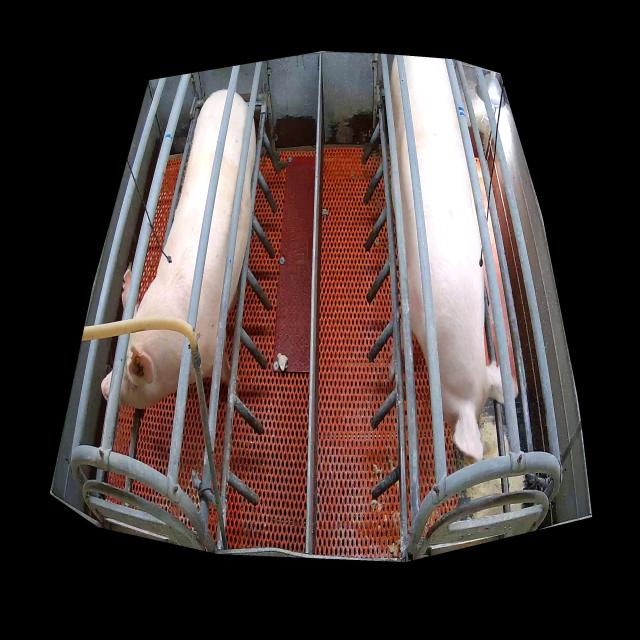pig: (101, 90, 256, 409), (390, 57, 504, 461)
